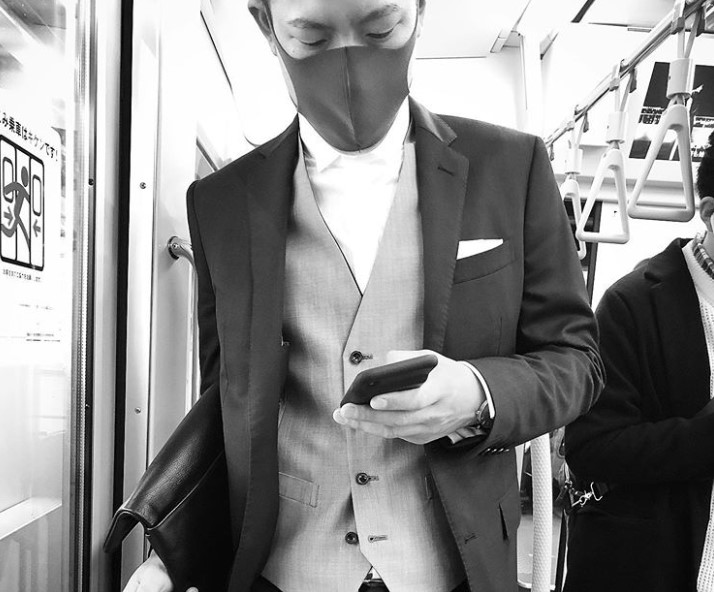face_with_mask: (268, 0, 416, 157)
